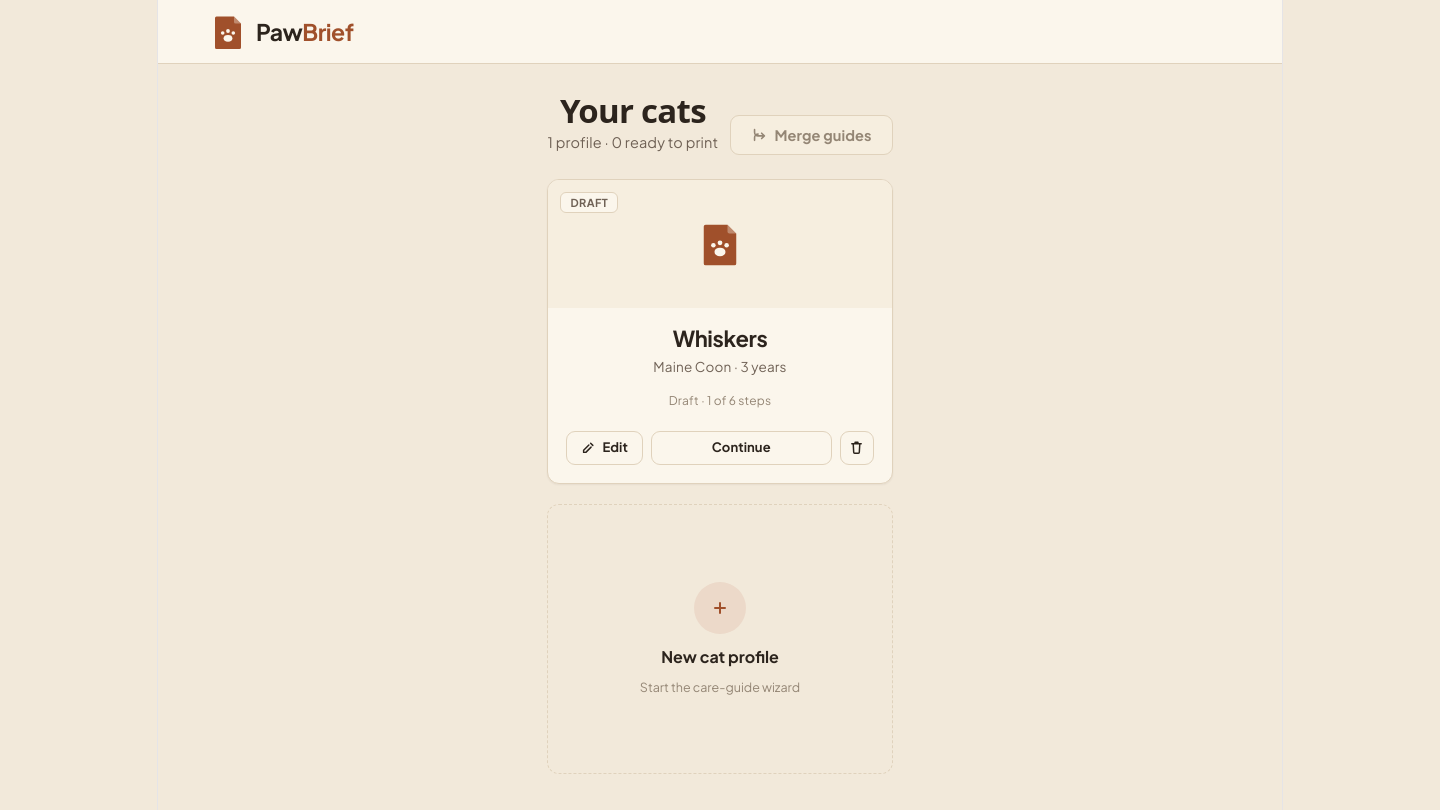
Test: DashboardPage delete with ConfirmModal › cancelling the ConfirmModal leaves the profile in the list
Click the button named "delete" at {"x": 856, "y": 448}, box top-left (840, 431), bottom-right (874, 465)
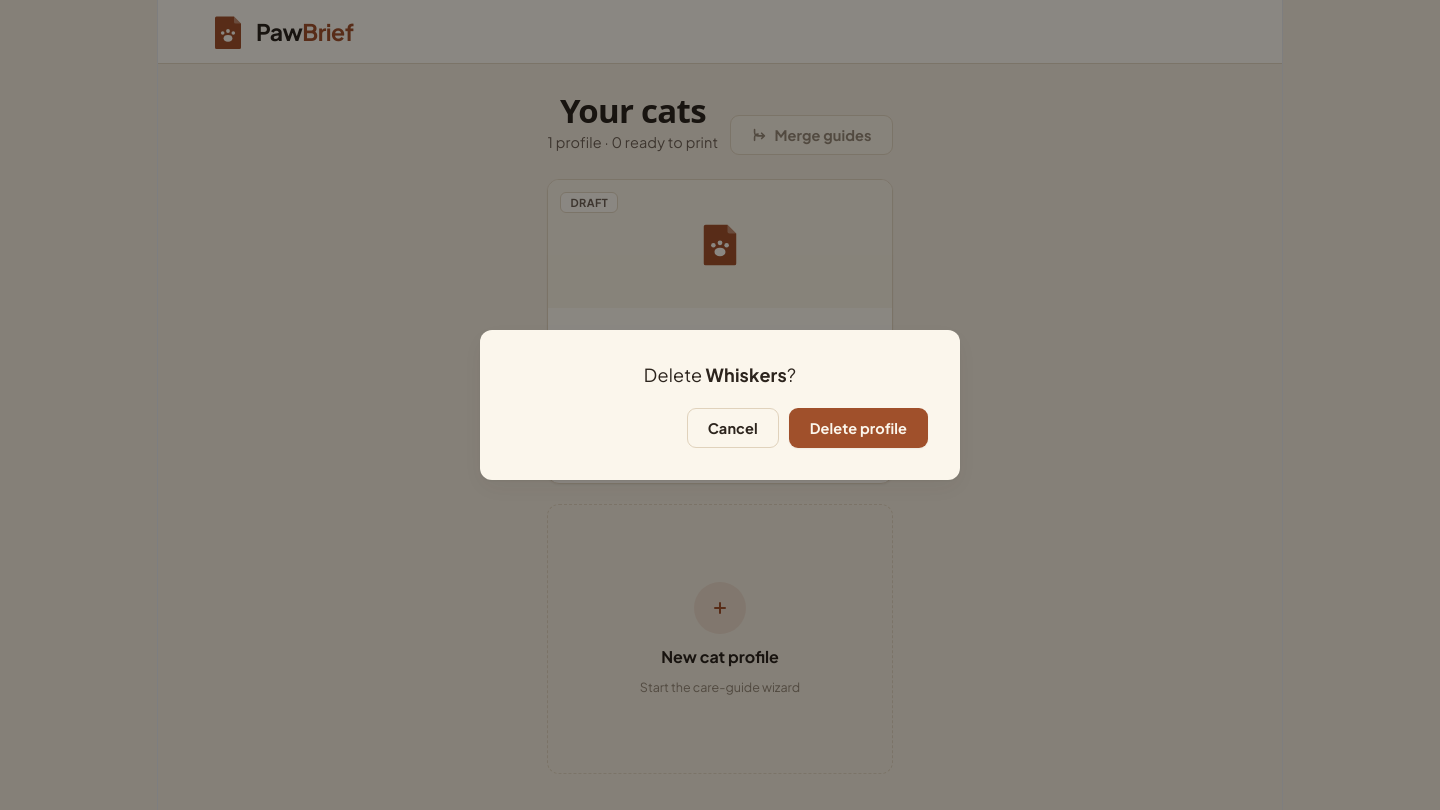
Click the button "Cancel" at {"x": 733, "y": 428}, box top-left (687, 408), bottom-right (779, 448)
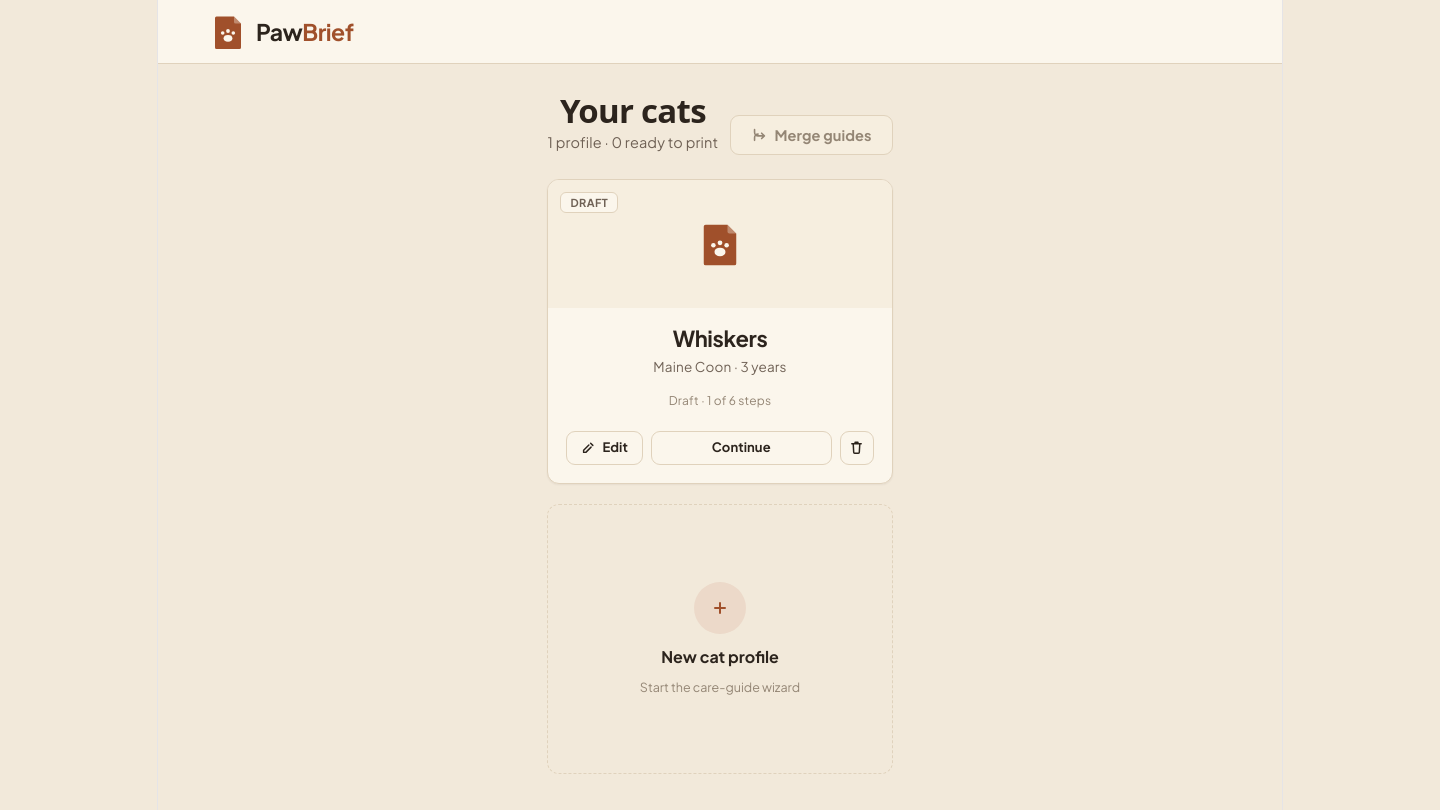
Expected: the text "Whiskers" is shown, top-left (673, 324), bottom-right (767, 352)
Result: the dialog is gone
